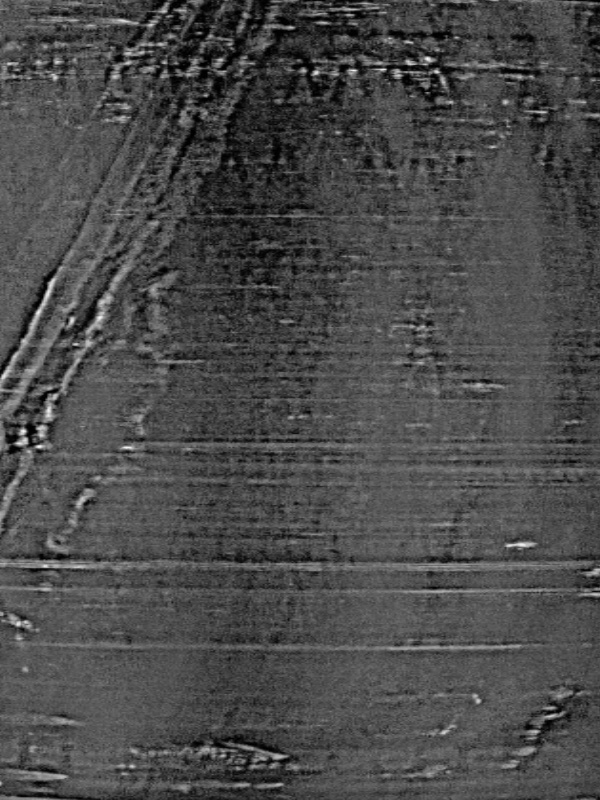splice_vulcanized: (1, 1, 269, 522)
